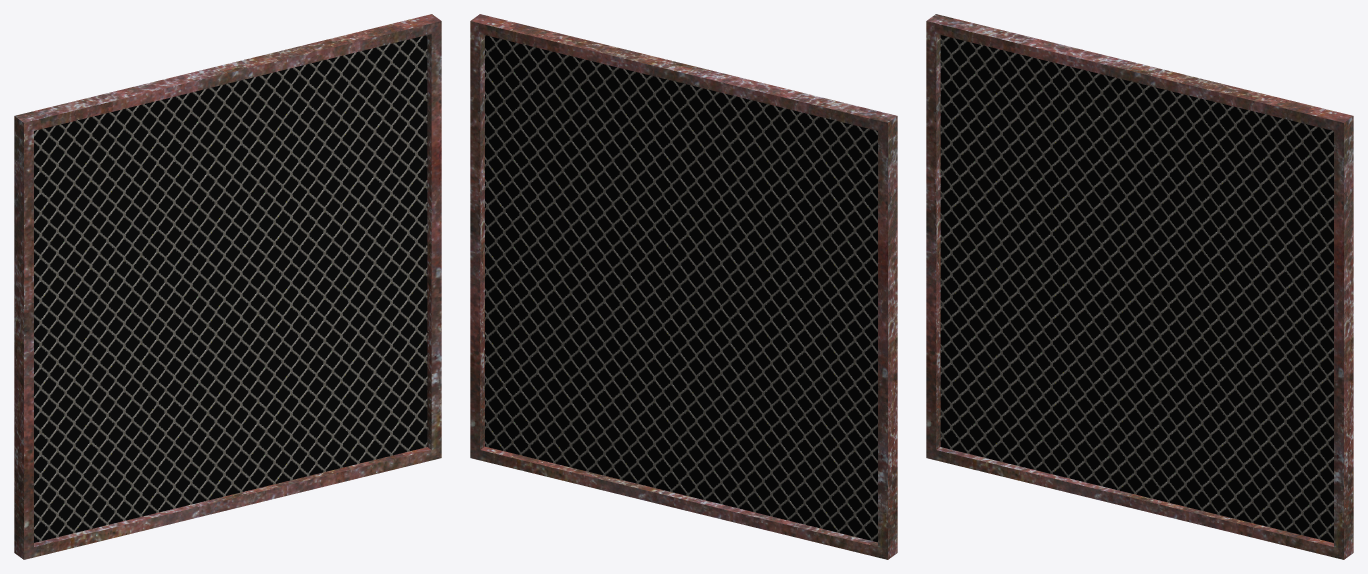
File: _Net_1.FBX
3 views of the same model, side by side, from view 1: azimuth 30°, elevation 25°; view 2: azimuth 150°, elevation 25°; view 3: azimuth 330°, elevation 25° (orthographic).
Parts seen in each view (by area): view 1: _Net_1; view 2: _Net_1; view 3: _Net_1.
Part boxes in pixels (box(x1,y1,x2,y2)): _Net_1: box(14, 14, 441, 559); _Net_1: box(470, 14, 897, 559); _Net_1: box(926, 14, 1353, 559).
Bounding box in the file's own units: 625 × 625 × 25.
2 materials, 2 textured.
